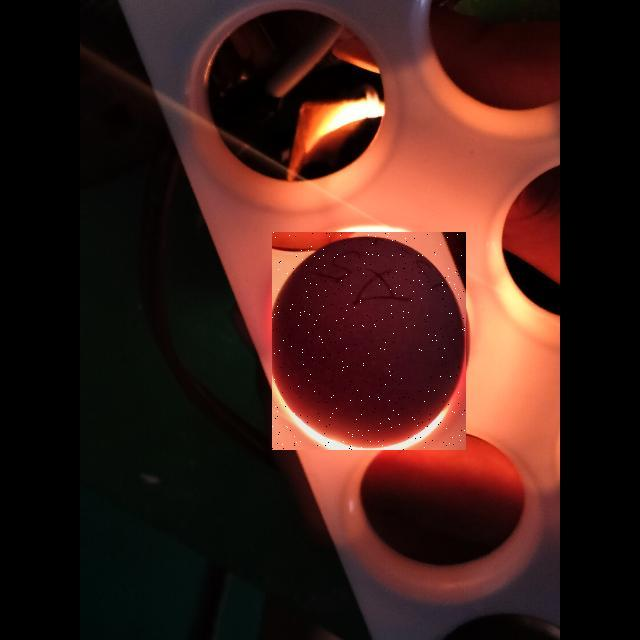Fertile: (272, 232, 466, 450)
